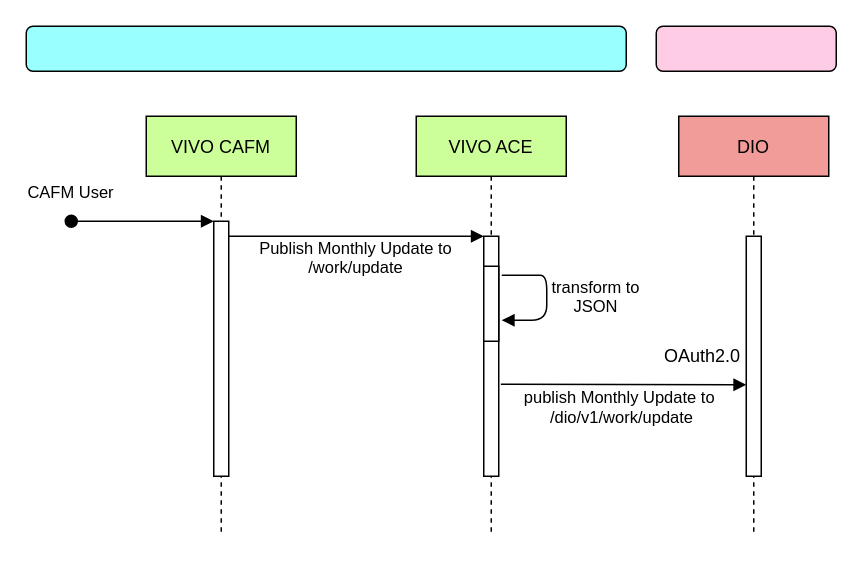
The diagram is 863 pixels wide and 563 high, and some of its shapes have lost their labels. The box of each missing label's shape, as (x1, y1, x2, y2) in pixels:
DIO Infrastructure: (655, 25, 836, 71)
VIVO Infrastructure: (25, 25, 626, 71)
